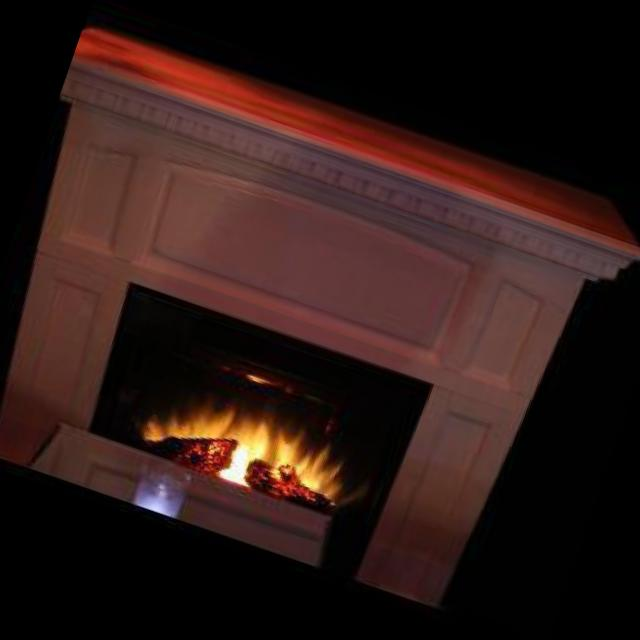fire: (124, 360, 381, 522)
